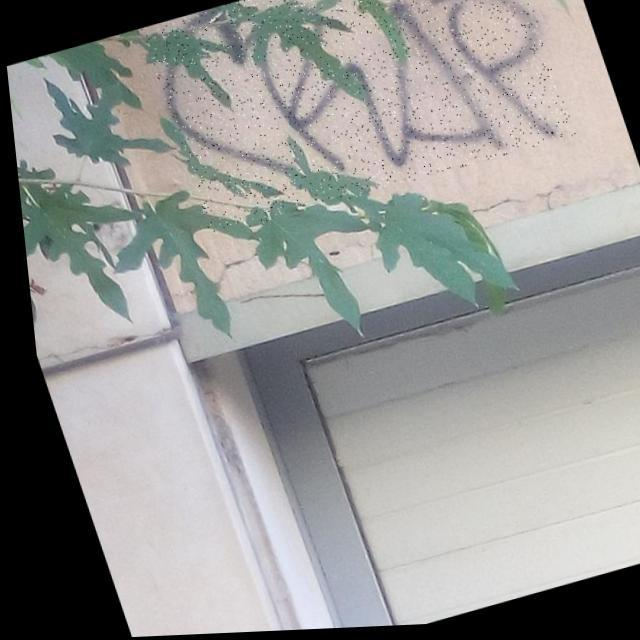-: (137, 0, 579, 240)
